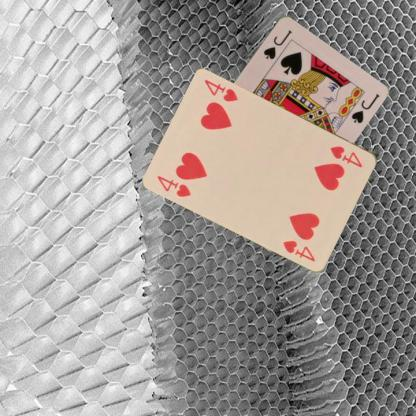4h: (155, 172, 193, 198), (328, 143, 364, 169)
Js: (260, 26, 294, 61)
